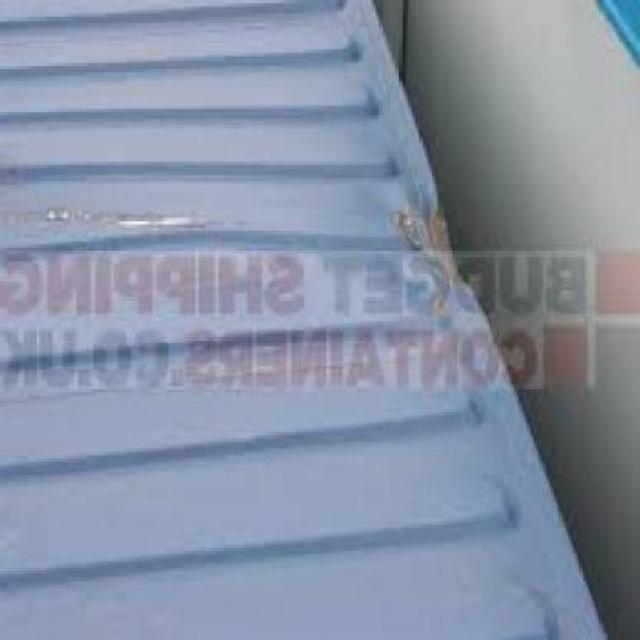dent: (371, 138, 499, 356)
